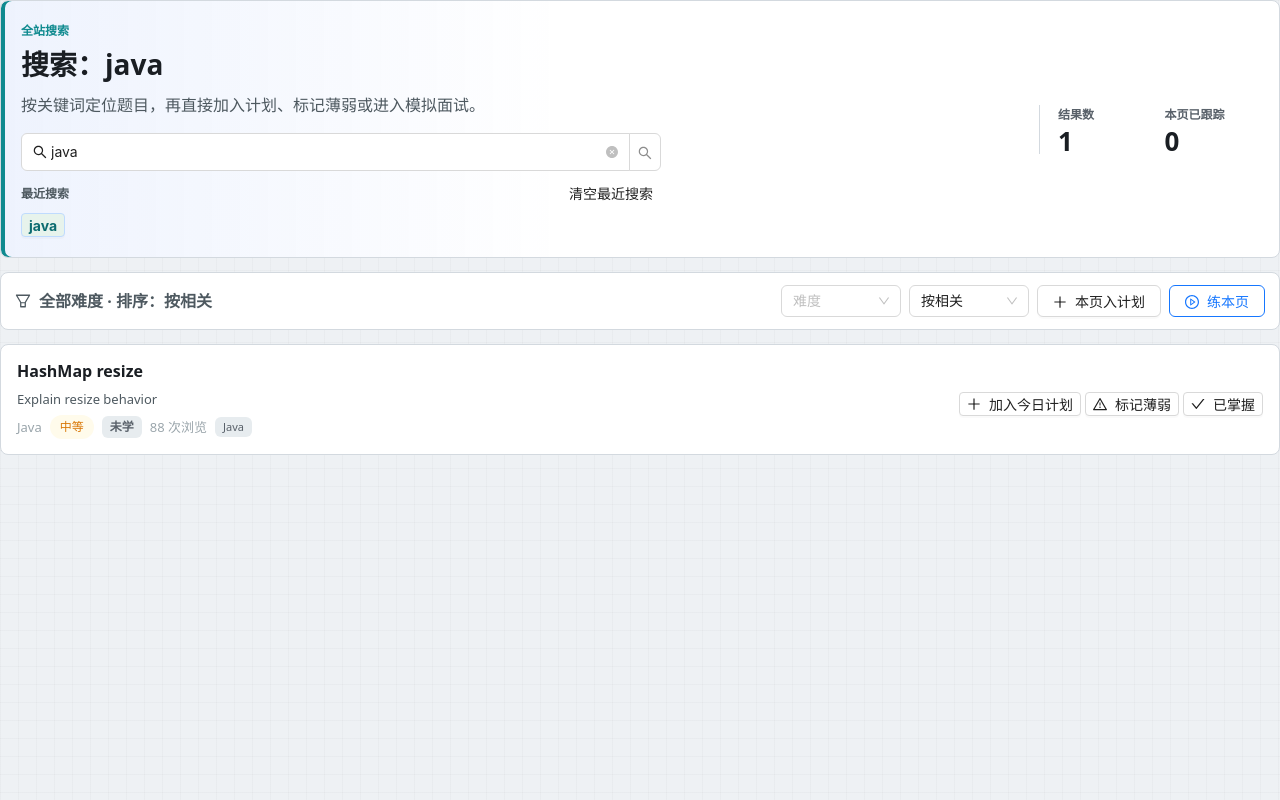
Test: SearchResult › clears stale results when submitting an empty search from an existing query
Check: the link "HashMap resize" is shown, box [17,360,143,382]
Clear the search field with placeholder "输入技术点、场景或题目关键词" at (326, 152), box [51,138,602,166]
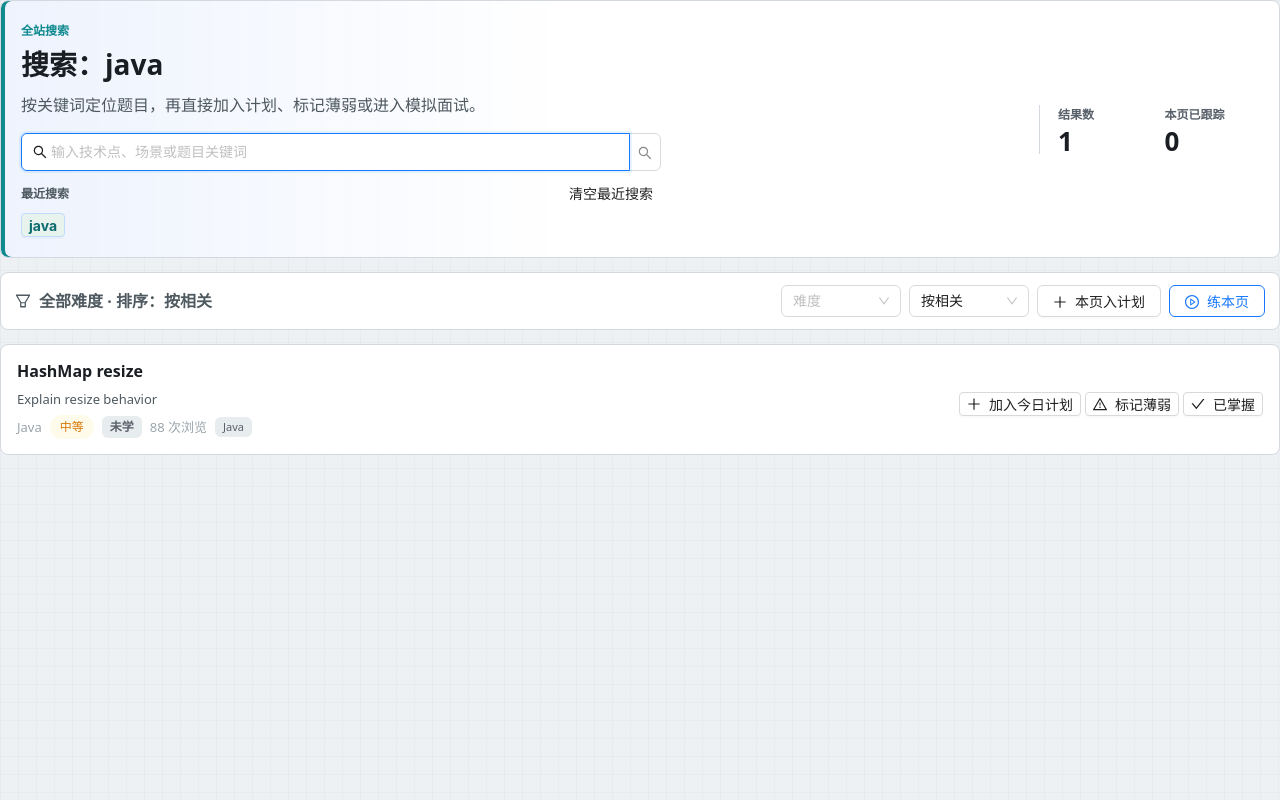
Press Enter
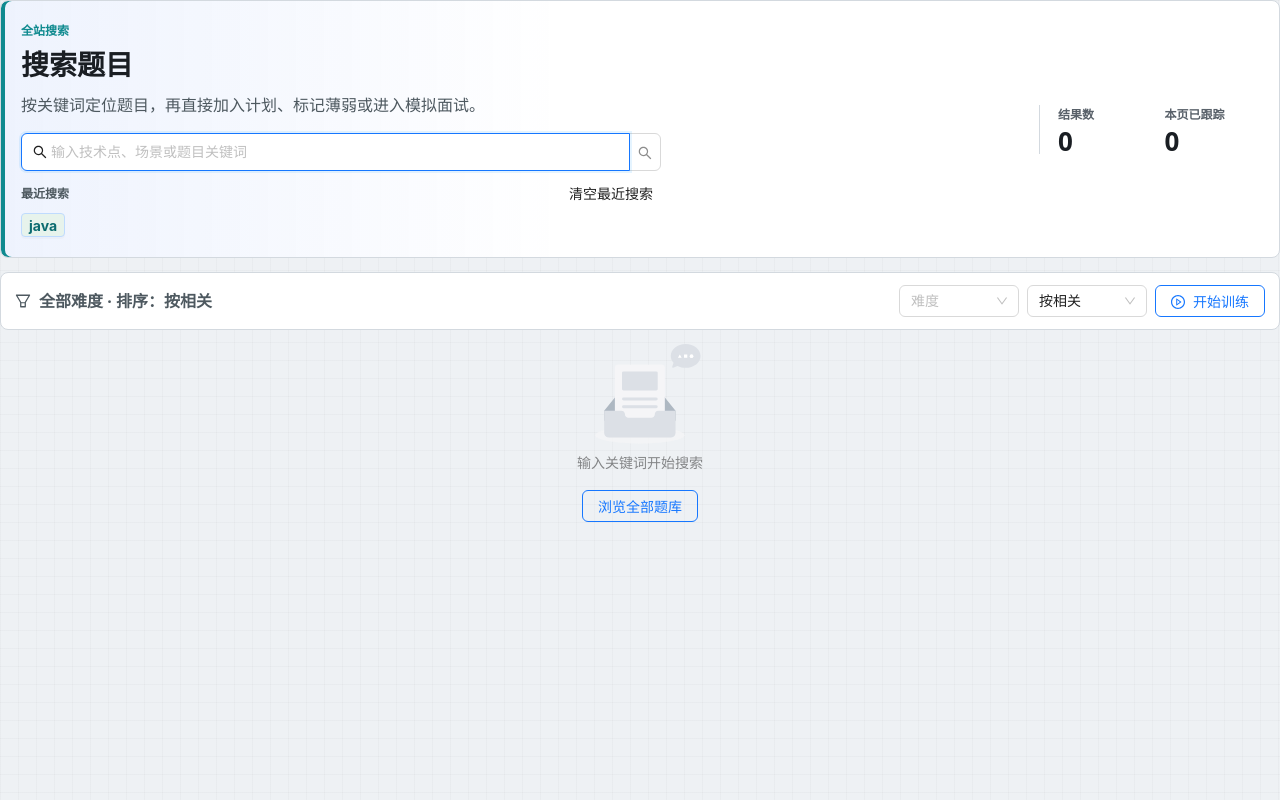
Check: the text "输入关键词开始搜索" is shown, box [577,454,703,471]
Check: the link "HashMap resize" is gone
